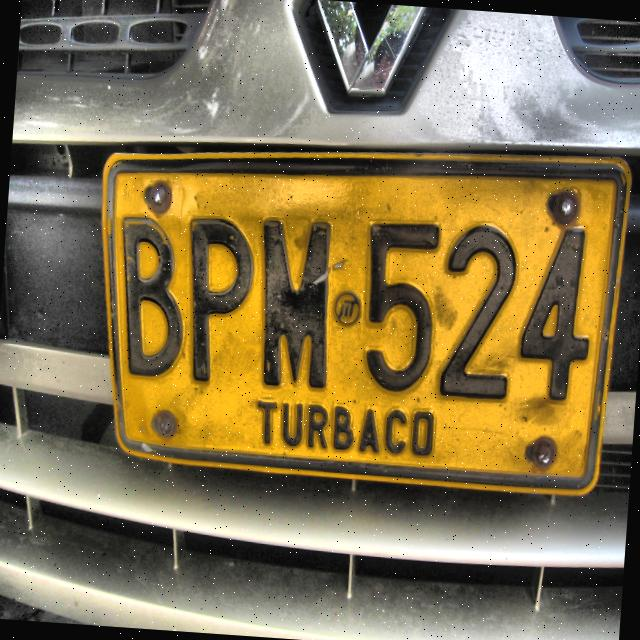2: (435, 211, 524, 413)
4: (510, 218, 602, 423)
5: (362, 207, 447, 402)
B: (118, 215, 187, 385)
M: (260, 214, 336, 401)
P: (186, 211, 259, 391)
